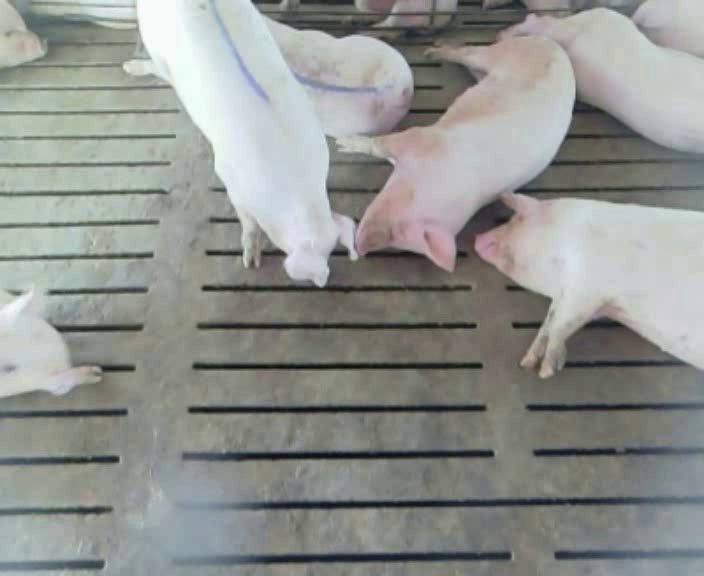pig: (138, 2, 355, 286), (337, 36, 574, 269), (475, 194, 703, 377), (502, 8, 703, 152), (632, 1, 703, 57)
